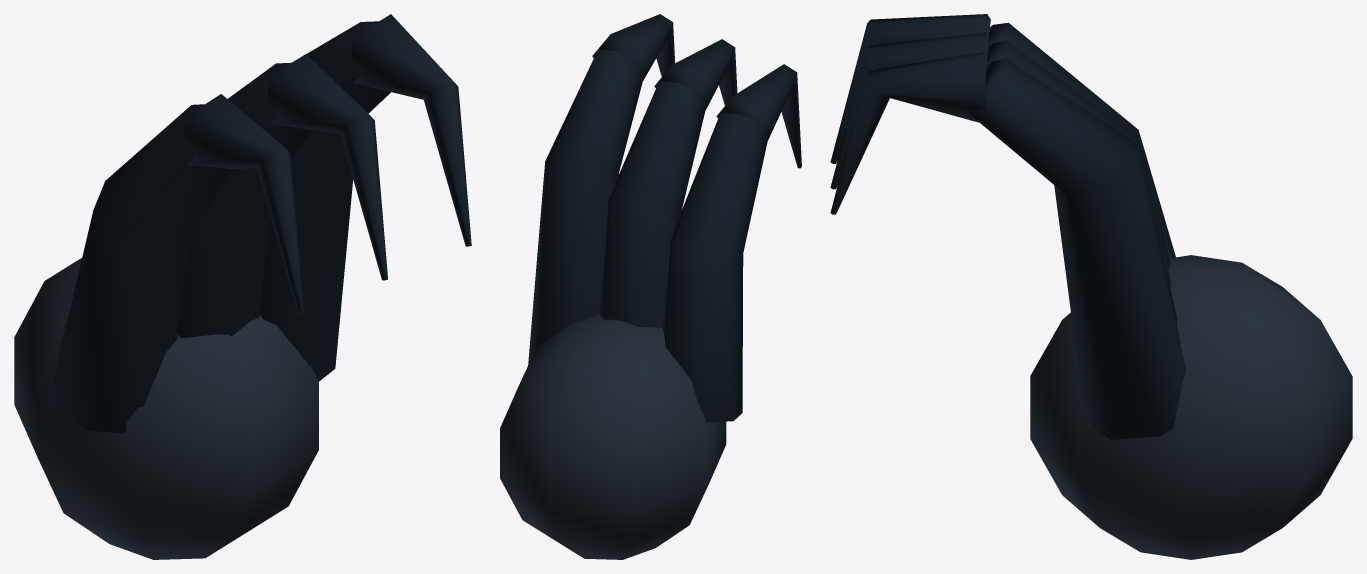
Rendered from R_Wing_Hand.obj.
3 renders of one model, left to right at view 1: azimuth 30°, elevation 25°; view 2: azimuth 150°, elevation 25°; view 3: azimuth 270°, elevation 25°, orthographic. The views are drawn at different scales.
Visible parts, largest first — view 1: R_Wing_Hand; view 2: R_Wing_Hand; view 3: R_Wing_Hand.
Part boxes in pixels (box(x1,y1,x2,y2)): R_Wing_Hand: box(14, 14, 471, 559); R_Wing_Hand: box(500, 14, 801, 559); R_Wing_Hand: box(830, 14, 1352, 559).
Size of the model in its own units: 0.8695 by 1.74 by 1.52.
